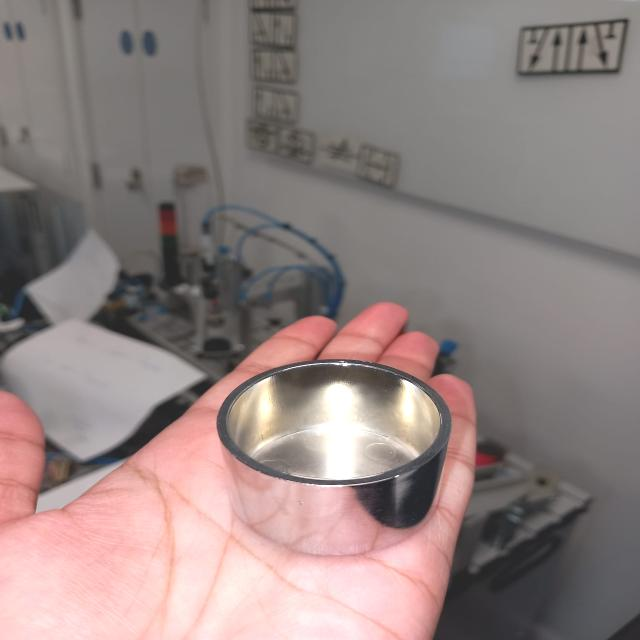NoLid: (210, 350, 448, 553)
